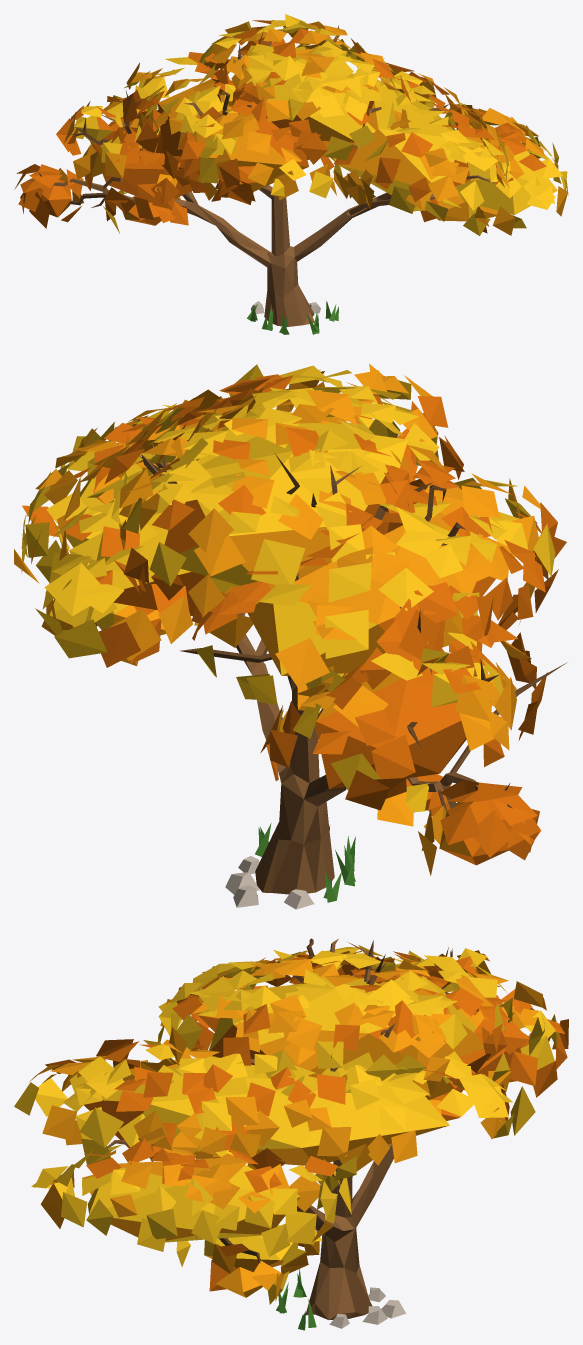
File: guayacan_1_autumn.glb
3 renders of one model, top to bottom at view 1: azimuth 30°, elevation 25°; view 2: azimuth 150°, elevation 25°; view 3: azimuth 270°, elevation 25°, orthographic. The views are drawn at different scales.
Visible parts, largest first — view 1: guayacan_1_autumn; view 2: guayacan_1_autumn; view 3: guayacan_1_autumn.
Boxes of the visible parts, x1,y1,x2,y2 form: guayacan_1_autumn: (14,14,568,334); guayacan_1_autumn: (14,363,567,909); guayacan_1_autumn: (14,938,568,1330).
Size of the model in its own units: 9.65 by 6.2 by 8.84.
